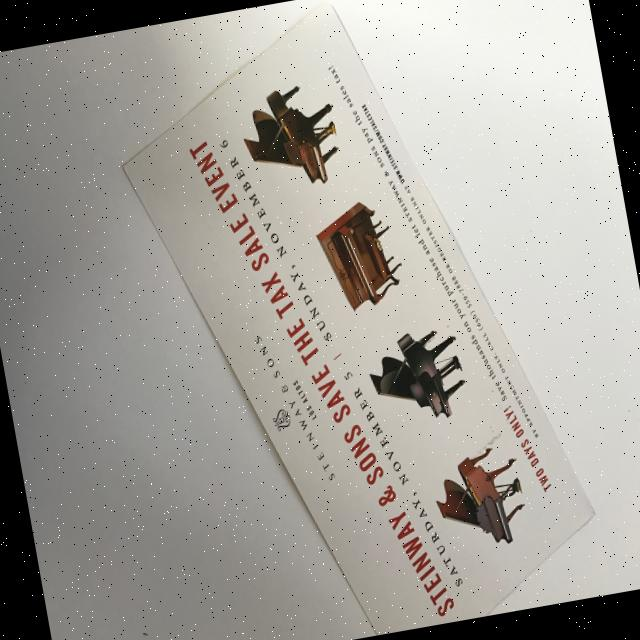paper: (97, 0, 609, 640)
